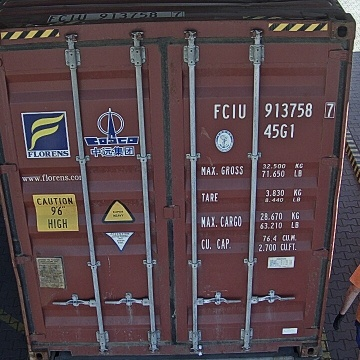serial_id: (214, 102, 335, 118)
